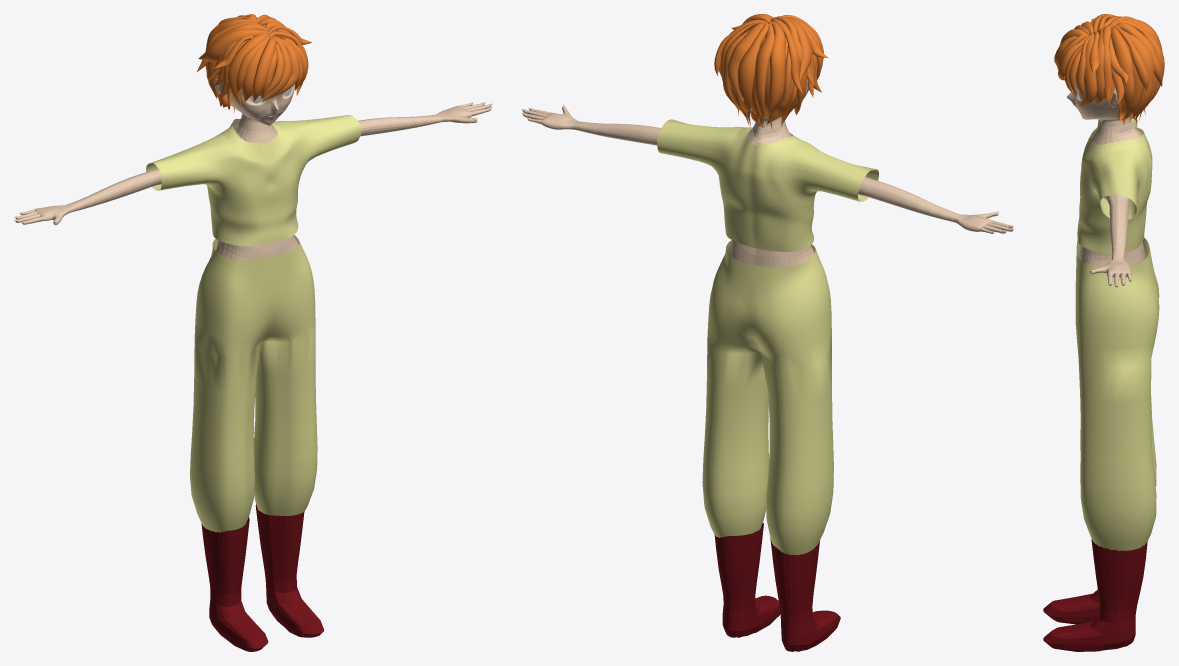
The model's file is 19Maychar.fbx.
The picture shows the model from 3 angles, left to right: view 1: azimuth 30°, elevation 25°; view 2: azimuth 150°, elevation 25°; view 3: azimuth 270°, elevation 25°; orthographic projection. The views are drawn at different scales.
Visible parts, largest first — view 1: NurbsPath.001; view 2: NurbsPath.001; view 3: NurbsPath.001.
Part boxes in pixels (box(x1,y1,x2,y2)): NurbsPath.001: box(14, 14, 492, 651); NurbsPath.001: box(521, 14, 1014, 651); NurbsPath.001: box(1043, 14, 1164, 651).
Bounding box in the file's own units: 397 × 481 × 86.46.
